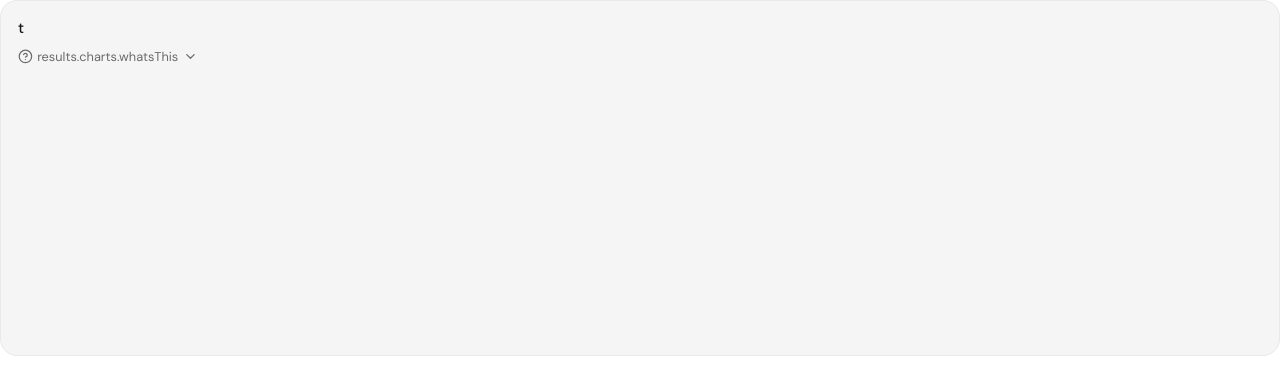
Test case: ChartShell › toggles the explanation note
Expected: the text "how it works" is not shown
What coordinates should you click on to do the following:
click the button with test id "shell-explain-toggle"
I would click on:
 (108, 56)
Its box is left=18, top=48, right=197, bottom=65.
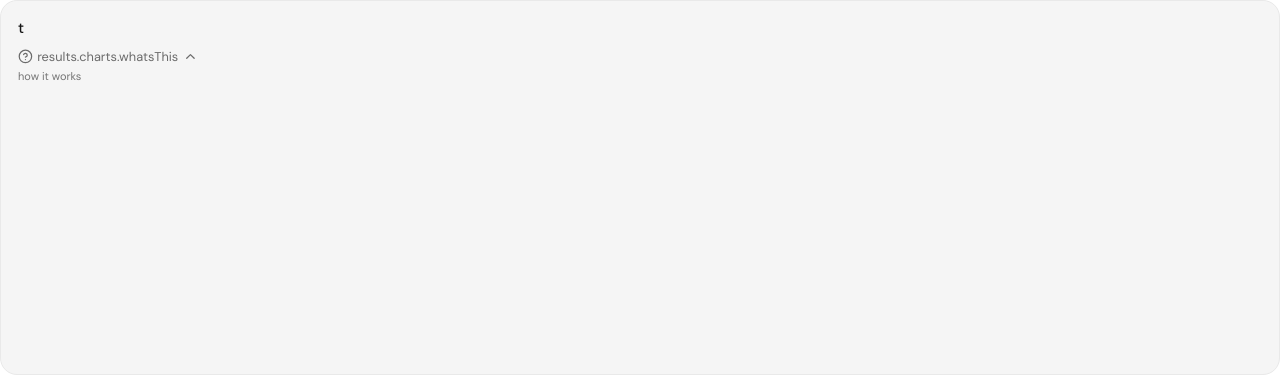
Expected: the text "how it works" is shown, left=18, top=69, right=81, bottom=83
What coordinates should you click on to do the following:
click the button with test id "shell-explain-toggle"
I would click on:
 (108, 56)
Its box is left=18, top=48, right=197, bottom=65.
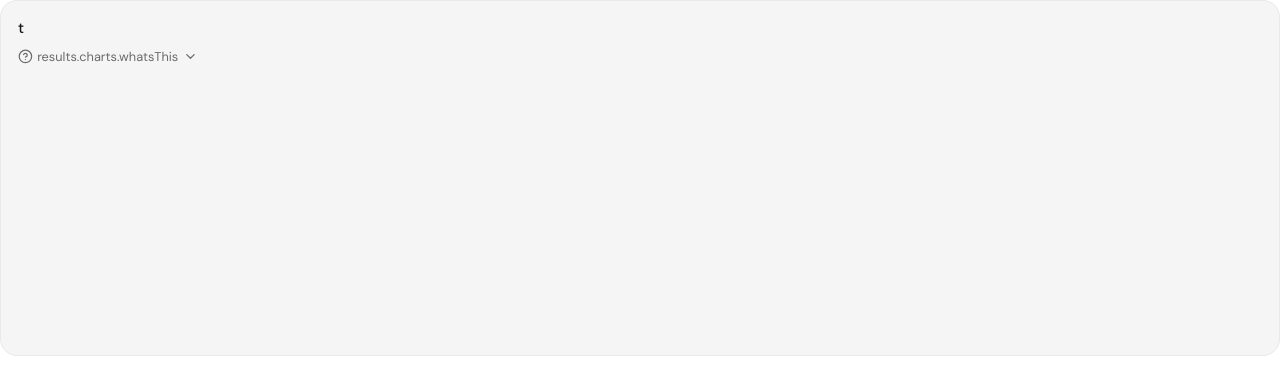
Expected: the text "how it works" is gone
